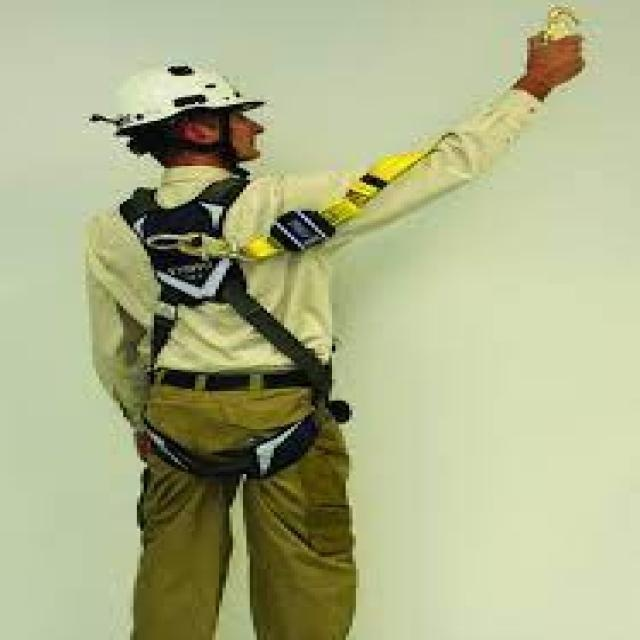Arnes_seguridad: (112, 172, 331, 480)
